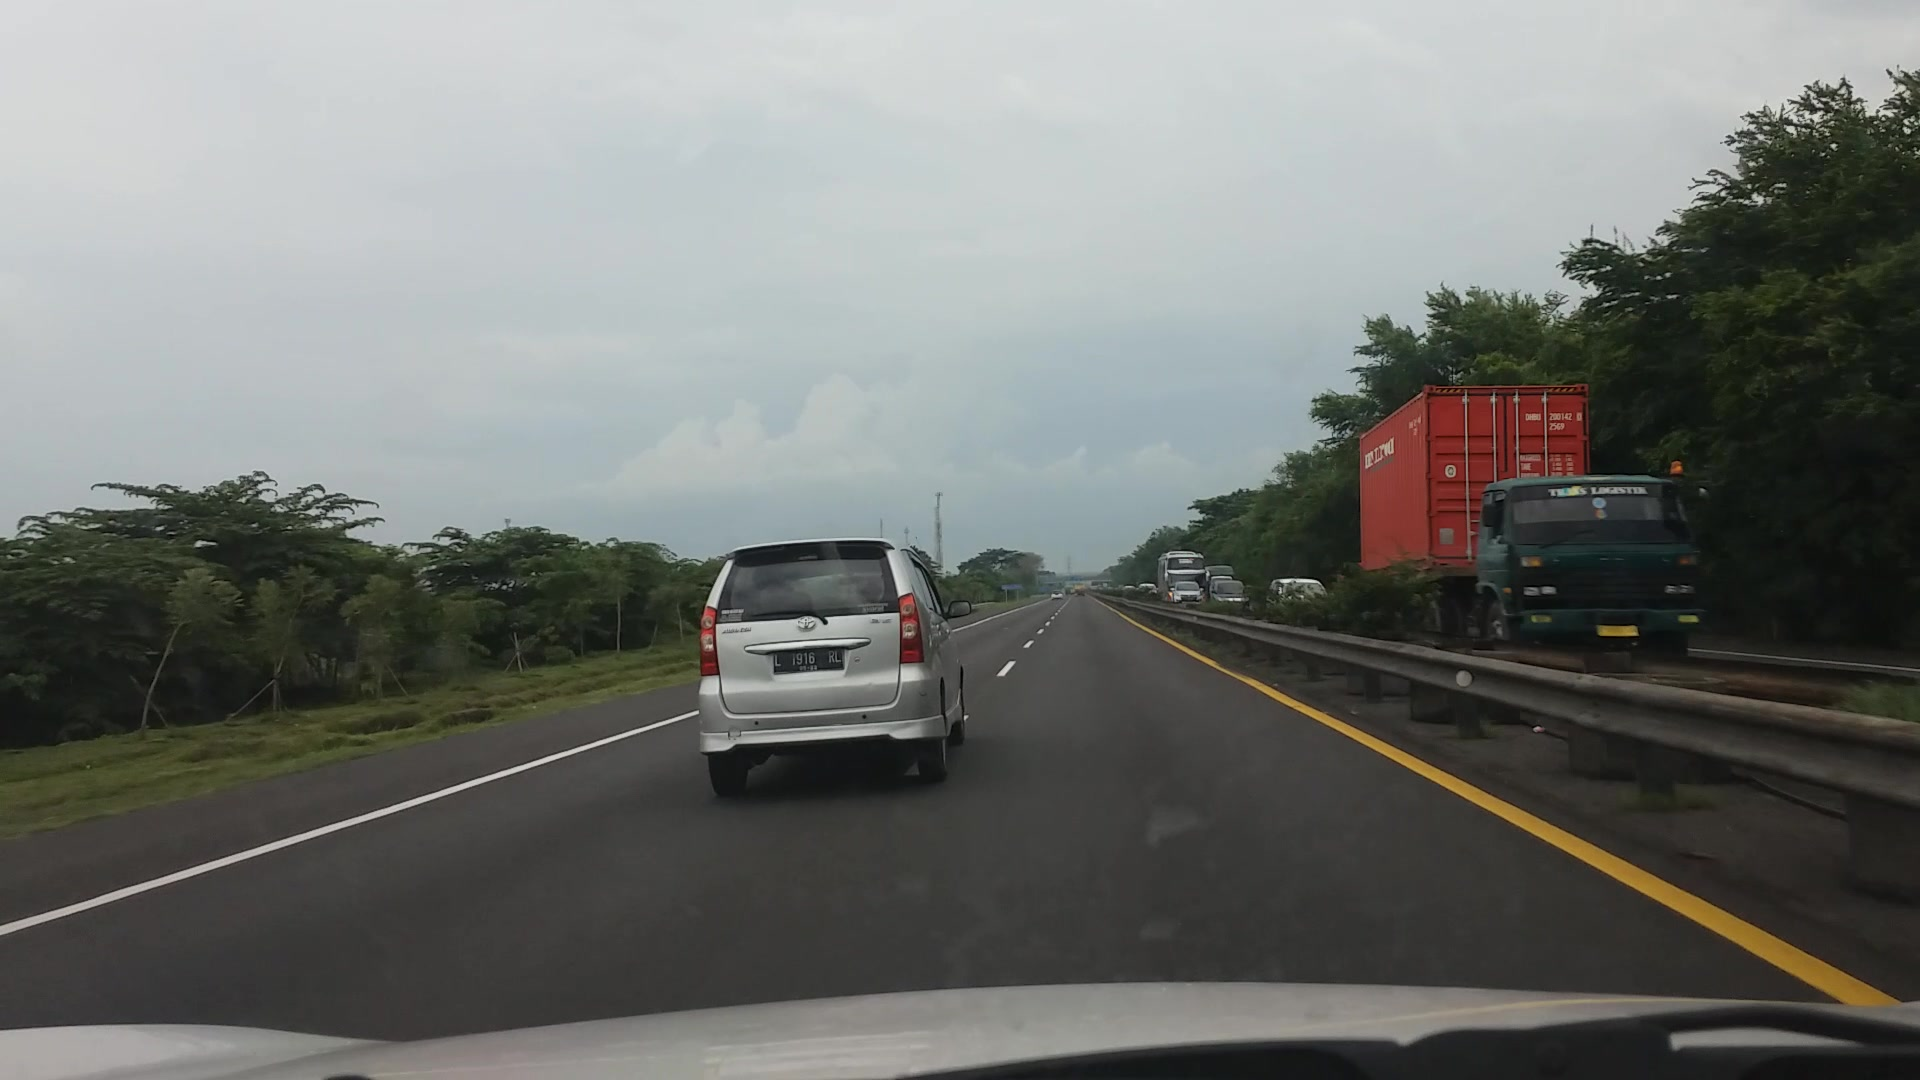plate_positive: (771, 647, 843, 674)
